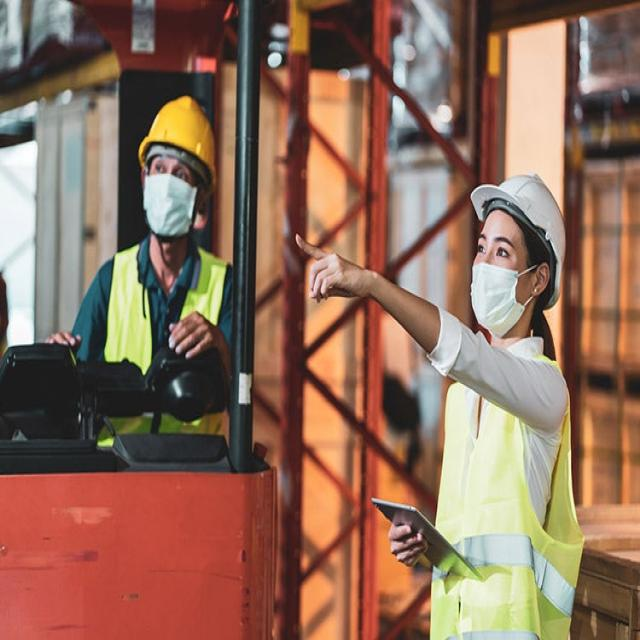helmet: (468, 167, 574, 270), (137, 76, 216, 172)
no-goggles: (468, 221, 550, 277), (140, 140, 214, 193)
vest: (434, 344, 583, 640), (112, 248, 216, 428)
